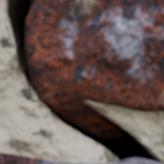brick: (30, 0, 163, 110), (0, 153, 62, 163), (115, 159, 158, 163)
crack: (0, 0, 162, 163)
